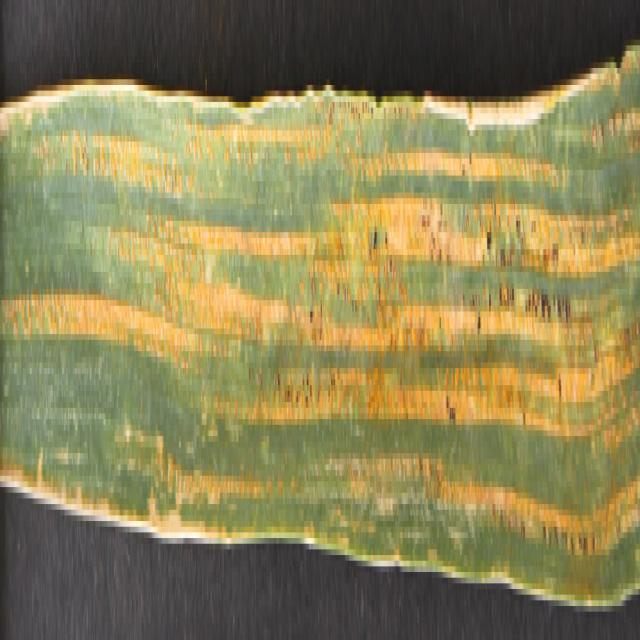leaf rust: (0, 73, 640, 566)
